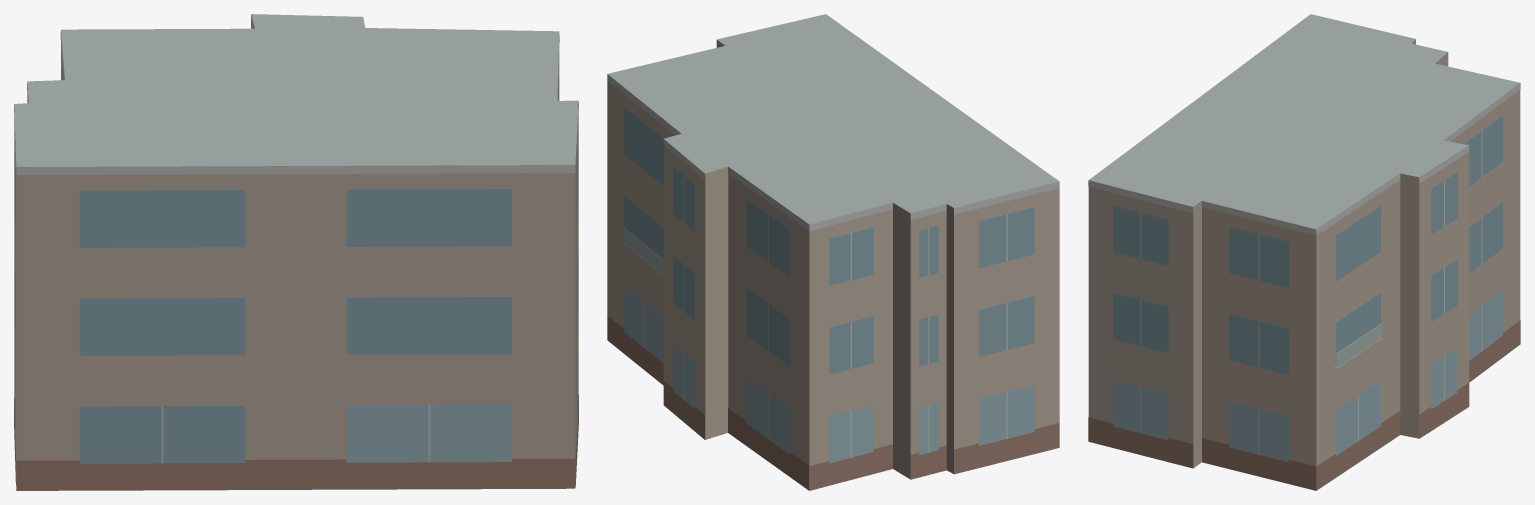
The model's file is survey-upis-32884007.glb.
3 renders of one model, left to right at view 1: azimuth 30°, elevation 25°; view 2: azimuth 150°, elevation 25°; view 3: azimuth 270°, elevation 25°, orthographic. The views are drawn at different scales.
Visible parts, largest first — view 1: survey-upis-32884007.tmp; view 2: survey-upis-32884007.tmp; view 3: survey-upis-32884007.tmp.
Boxes of the visible parts, bbox=[...] form: survey-upis-32884007.tmp: bbox=[14, 14, 578, 490]; survey-upis-32884007.tmp: bbox=[607, 14, 1059, 490]; survey-upis-32884007.tmp: bbox=[1088, 14, 1520, 490].
Bounding box in the file's own units: 17.32 × 9.8 × 14.68.
